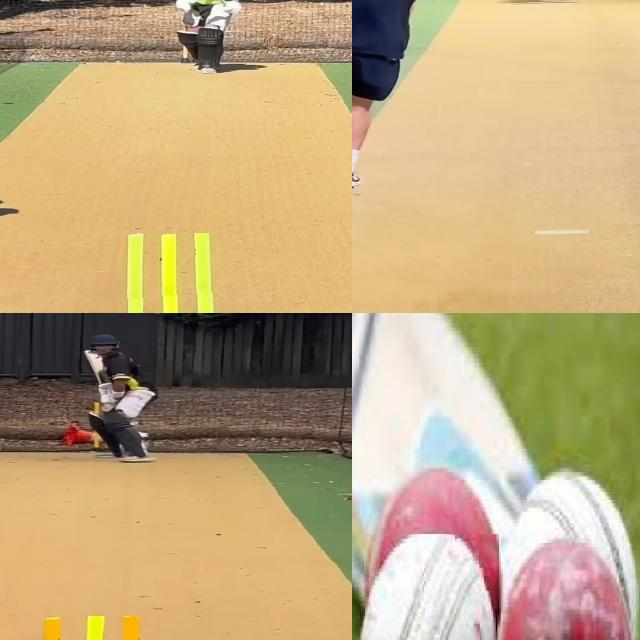Cricket ball: (352, 534, 499, 640), (498, 537, 640, 640)
Stumps: (106, 232, 241, 313)
